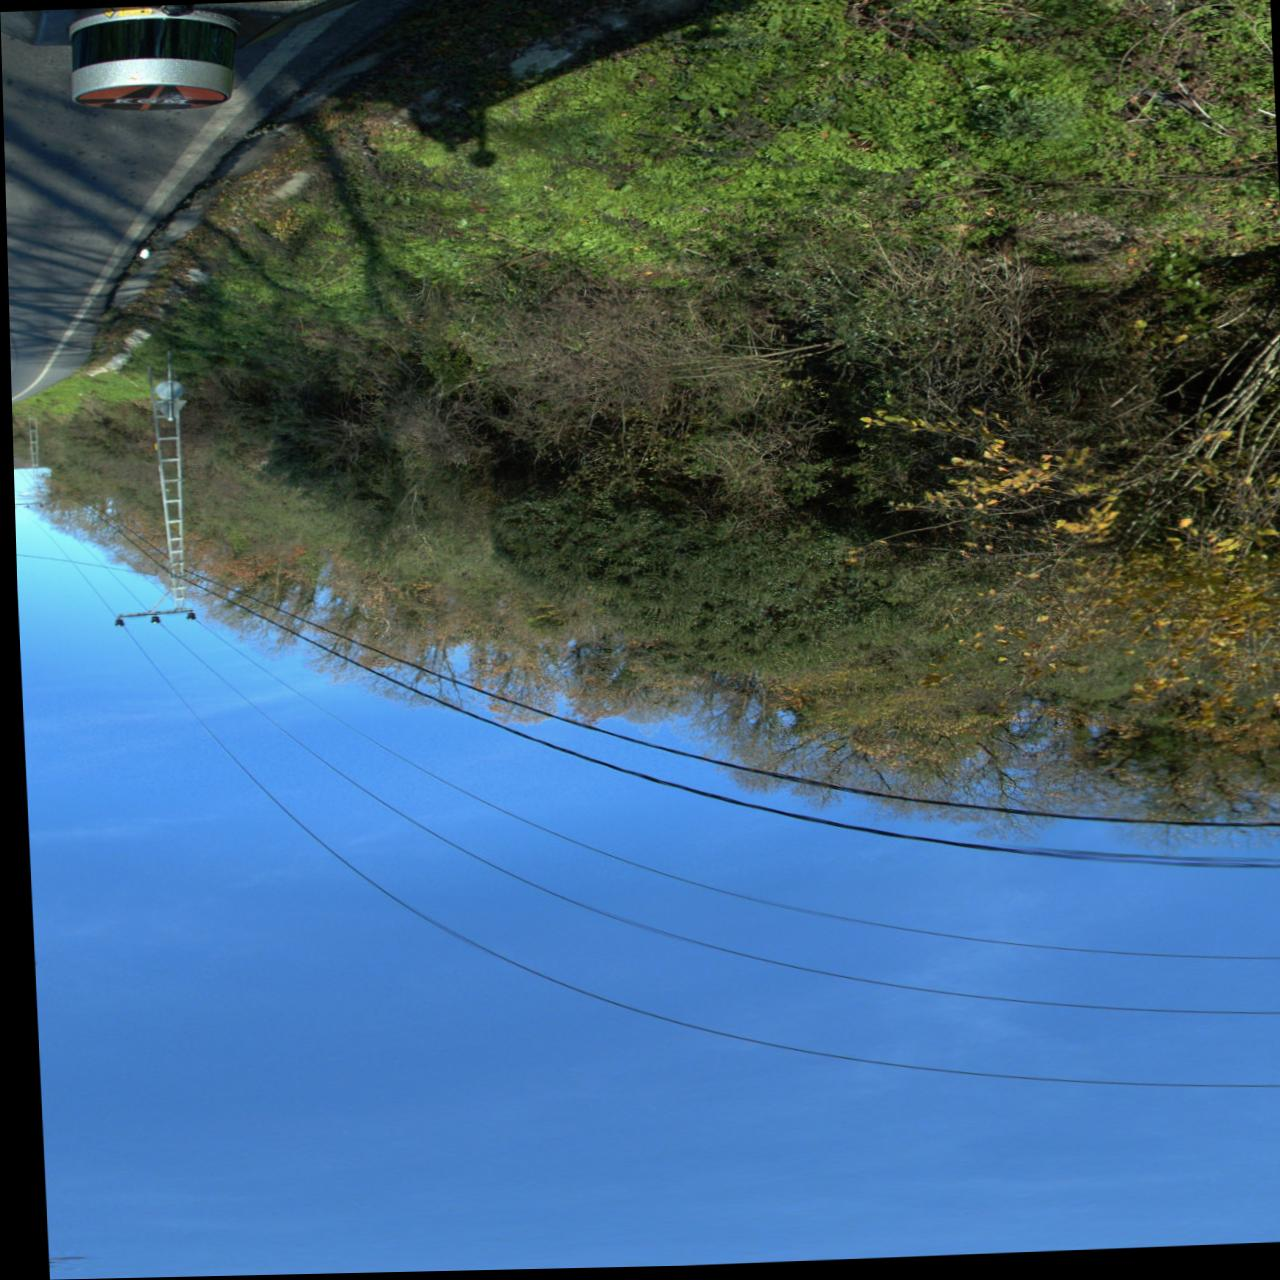Utility Pole Information Plate: (150, 443, 154, 450)
